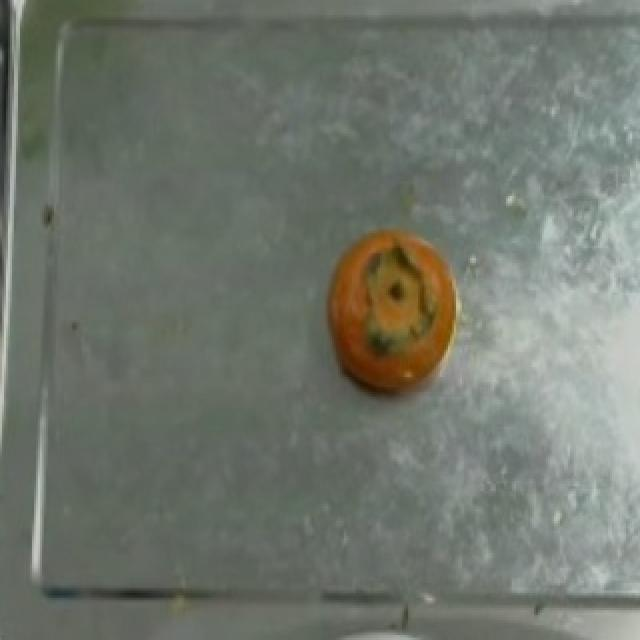Fruit: (312, 213, 478, 414)
